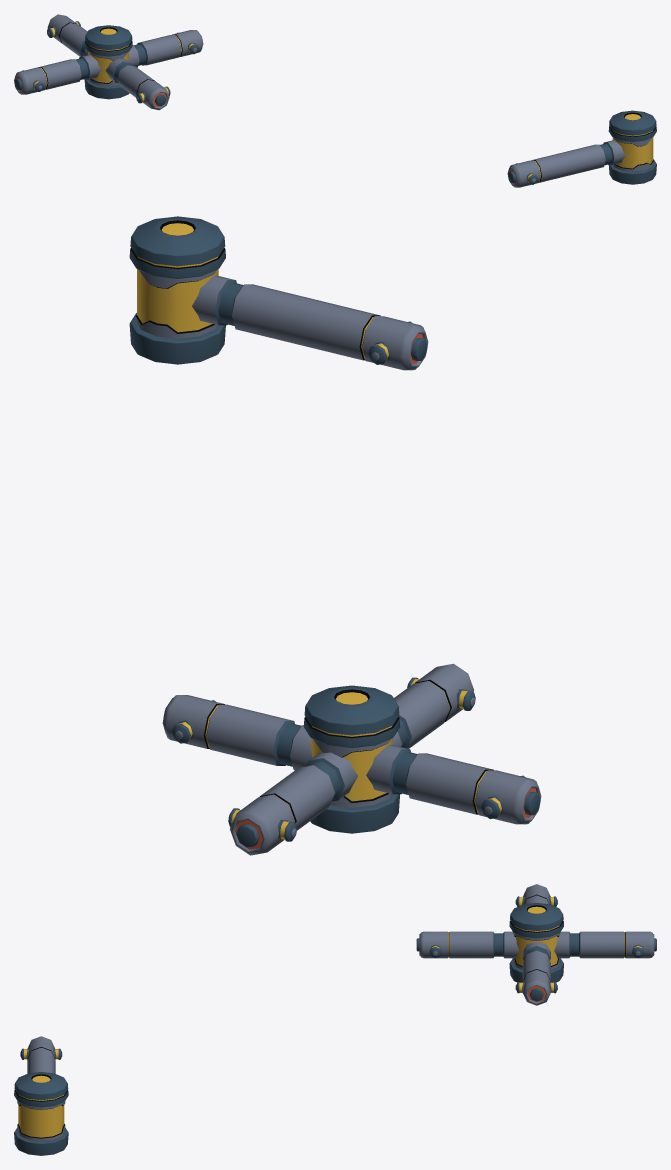
File: Rotators.fbx
3 views of the same model, one above another, from view 1: azimuth 30°, elevation 25°; view 2: azimuth 150°, elevation 25°; view 3: azimuth 270°, elevation 25° (orthographic). The views are drawn at different scales.
Parts seen in each view (by area): view 1: Rotator1, Rotator2; view 2: Rotator1, Rotator2; view 3: Rotator1, Rotator2.
Boxes of the visible parts, x1,y1,x2,y2 form: Rotator1: (14, 14, 203, 110); Rotator2: (507, 110, 656, 187); Rotator1: (162, 663, 541, 855); Rotator2: (129, 216, 428, 370); Rotator1: (416, 884, 656, 1005); Rotator2: (14, 1036, 68, 1155).
Bounding box in the file's own units: 2426 × 332 × 2849.
